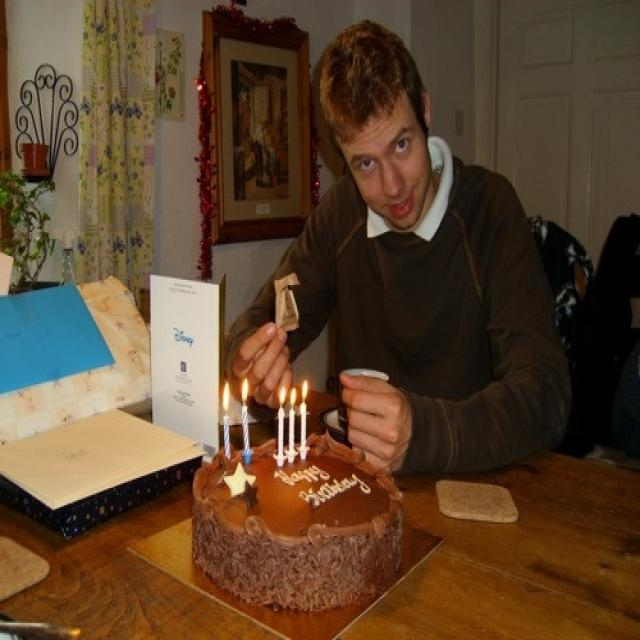diningtable: (2, 367, 638, 638)
pottedplant: (0, 169, 54, 295)
